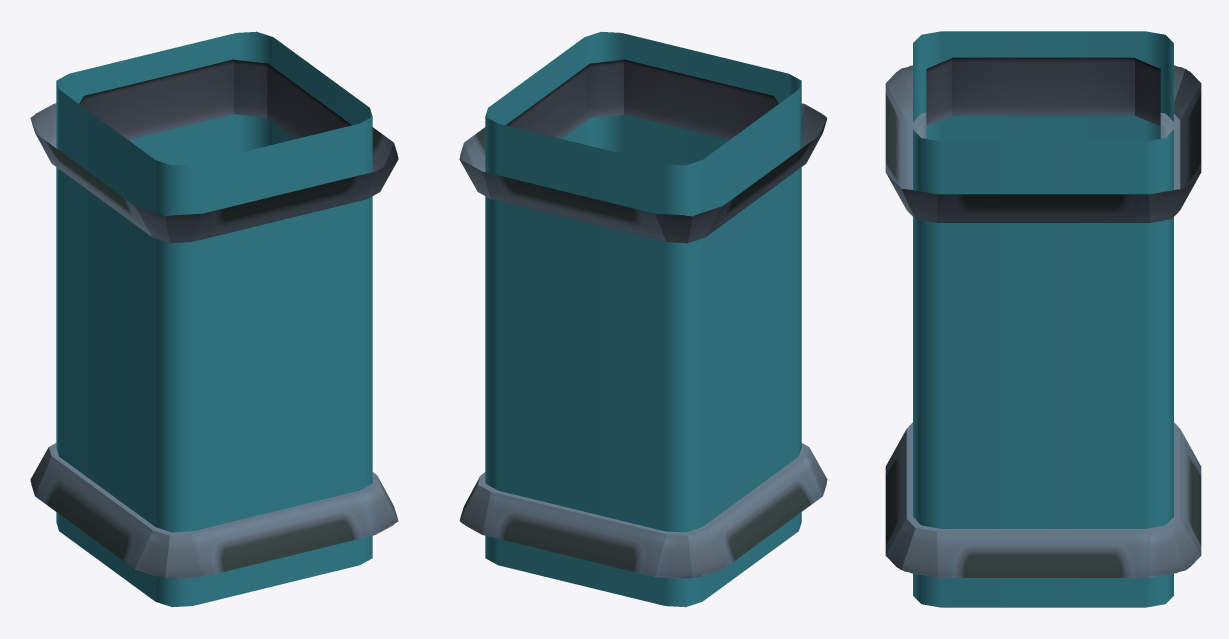
The model's file is obj_interactive_pipe3.fbx.
3 views of the same model, side by side, from view 1: azimuth 30°, elevation 25°; view 2: azimuth 150°, elevation 25°; view 3: azimuth 270°, elevation 25° (orthographic). The views are drawn at different scales.
Parts seen in each view (by area): view 1: obj_interactive_pipe03; view 2: obj_interactive_pipe03; view 3: obj_interactive_pipe03.
Part boxes in pixels (<box>): obj_interactive_pipe03: <box>30,31,398,607</box>; obj_interactive_pipe03: <box>459,31,827,607</box>; obj_interactive_pipe03: <box>885,31,1201,607</box>.
Bounding box in the file's own units: 2 × 3 × 2.
